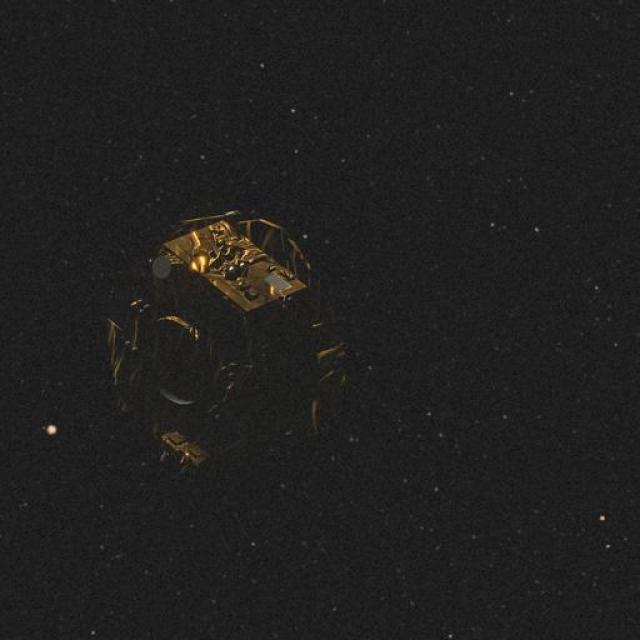lisa_pathfinder: (79, 207, 359, 489)
